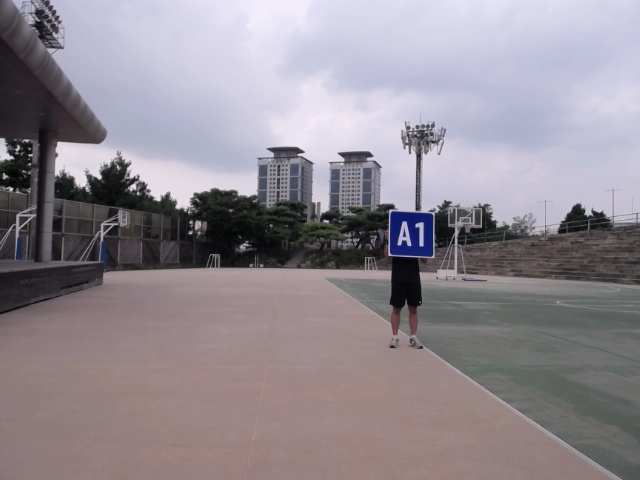delivery_a1: (388, 211, 435, 258)
